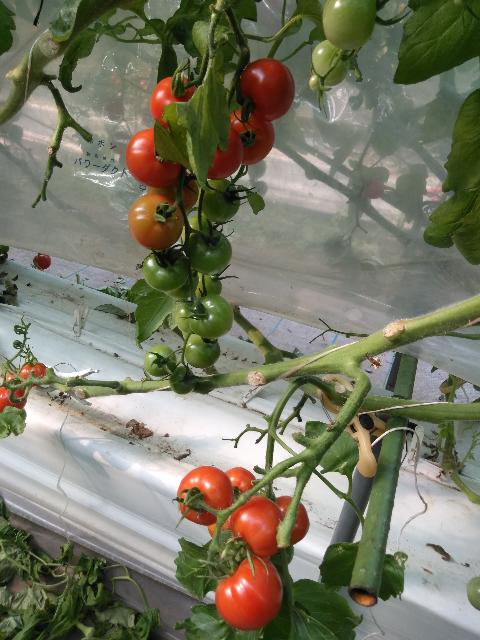l_fully_ripened: (215, 555, 283, 631), (230, 496, 287, 558), (240, 57, 295, 121), (177, 465, 234, 526), (125, 128, 182, 188), (230, 108, 275, 165), (150, 77, 196, 129), (271, 495, 310, 546), (207, 128, 245, 180), (224, 466, 258, 503), (0, 381, 28, 412), (20, 362, 48, 387), (33, 254, 51, 270)
l_green: (322, 0, 377, 50), (185, 229, 232, 275), (143, 248, 191, 292), (197, 179, 241, 224), (189, 294, 234, 338), (310, 40, 350, 86), (183, 334, 221, 368), (163, 266, 199, 299), (181, 215, 218, 244), (144, 346, 177, 377), (193, 271, 222, 300), (168, 365, 196, 395), (175, 300, 195, 334), (467, 576, 480, 611), (309, 75, 324, 92)
l_half_ripened: (128, 193, 185, 251), (146, 170, 199, 215)
